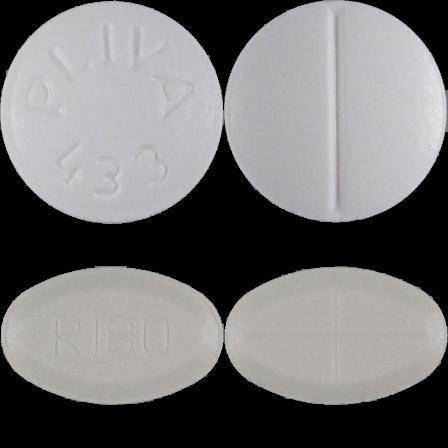49999-343: (0, 0, 224, 224)
